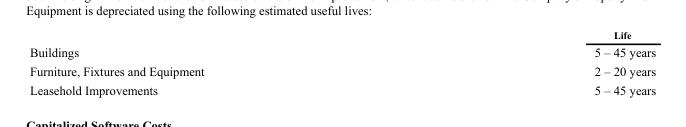table: (28, 29, 655, 96)
table column: (28, 29, 398, 96), (398, 29, 655, 96)
table column header: (28, 29, 655, 42)
table row: (28, 42, 655, 61), (28, 61, 655, 79), (28, 79, 655, 96), (28, 29, 655, 42)
